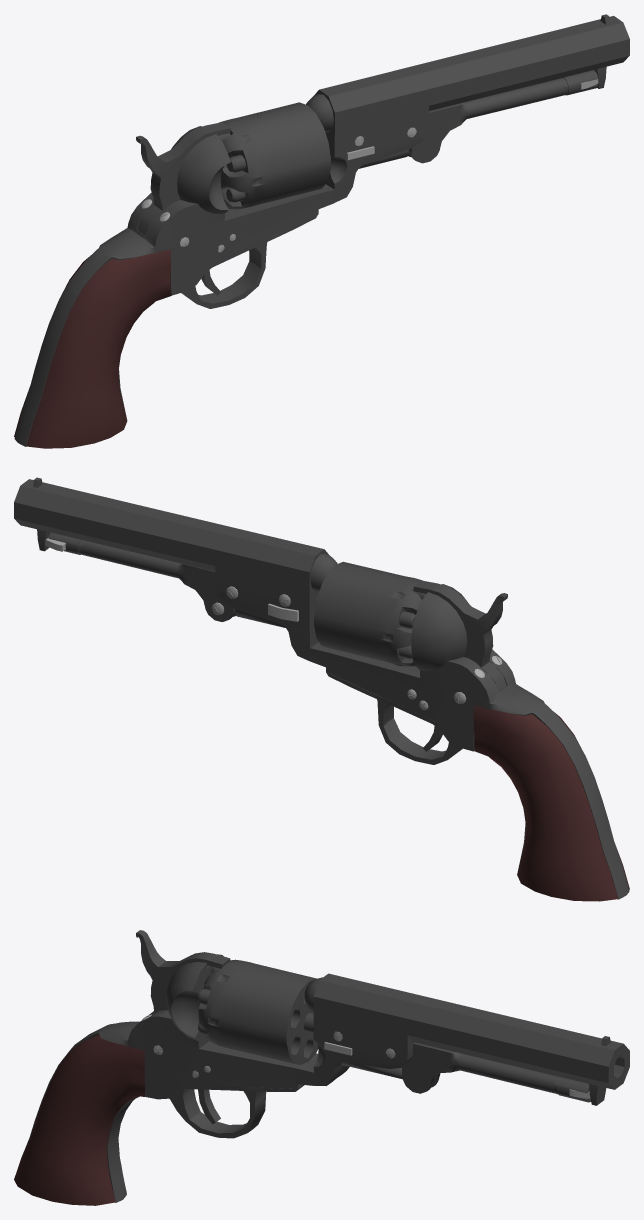
Rendered from Gun00.fbx.
3 renders of one model, top to bottom at view 1: azimuth 30°, elevation 25°; view 2: azimuth 150°, elevation 25°; view 3: azimuth 330°, elevation 25°, orthographic.
Parts seen in each view (by area): view 1: Barrel, Grip, Frame, Cylinder, Backstrap_Trigger_Guard, Loading_Lever, Hammer; view 2: Barrel, Grip, Frame, Cylinder, Backstrap_Trigger_Guard, Loading_Lever, Hammer, Screws; view 3: Barrel, Grip, Frame, Cylinder, Backstrap_Trigger_Guard, Loading_Lever, Hammer, Trigger, Plunger.
Boxes of the visible parts, x1,y1,x2,y2 form: Barrel: (306,14,629,202); Grip: (14,249,171,448); Frame: (145,126,334,280); Cylinder: (218,102,330,209); Backstrap_Trigger_Guard: (14,199,317,446); Loading_Lever: (409,70,598,163); Hammer: (136,122,230,235); Barrel: (14,477,337,661); Grip: (473,705,629,901); Frame: (310,584,498,736); Cylinder: (314,561,426,666); Backstrap_Trigger_Guard: (326,655,629,899); Loading_Lever: (48,532,235,621); Hammer: (413,580,507,691); Screws: (226,586,502,710); Barrel: (304,973,629,1105); Grip: (14,1035,145,1205); Frame: (144,954,318,1088); Cylinder: (197,959,318,1064); Backstrap_Trigger_Guard: (21,1011,304,1202); Loading_Lever: (402,1042,590,1102); Hammer: (136,930,230,1014); Trigger: (198,1089,220,1124); Plunger: (341,1062,434,1081).
Bounding box in the file's own units: 25.94 × 11.56 × 3.39.
